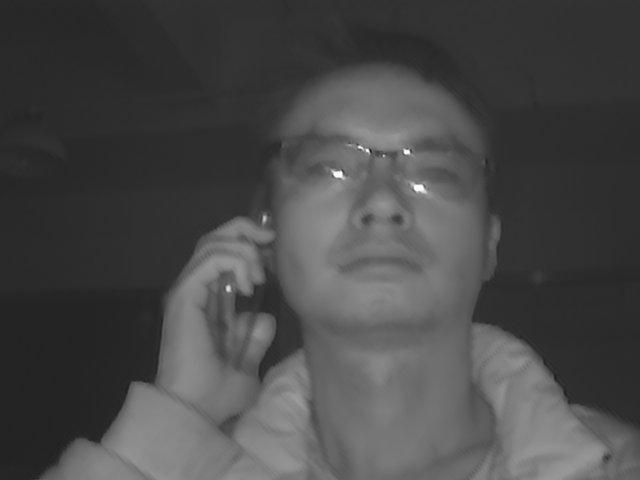hand: (150, 214, 280, 415)
